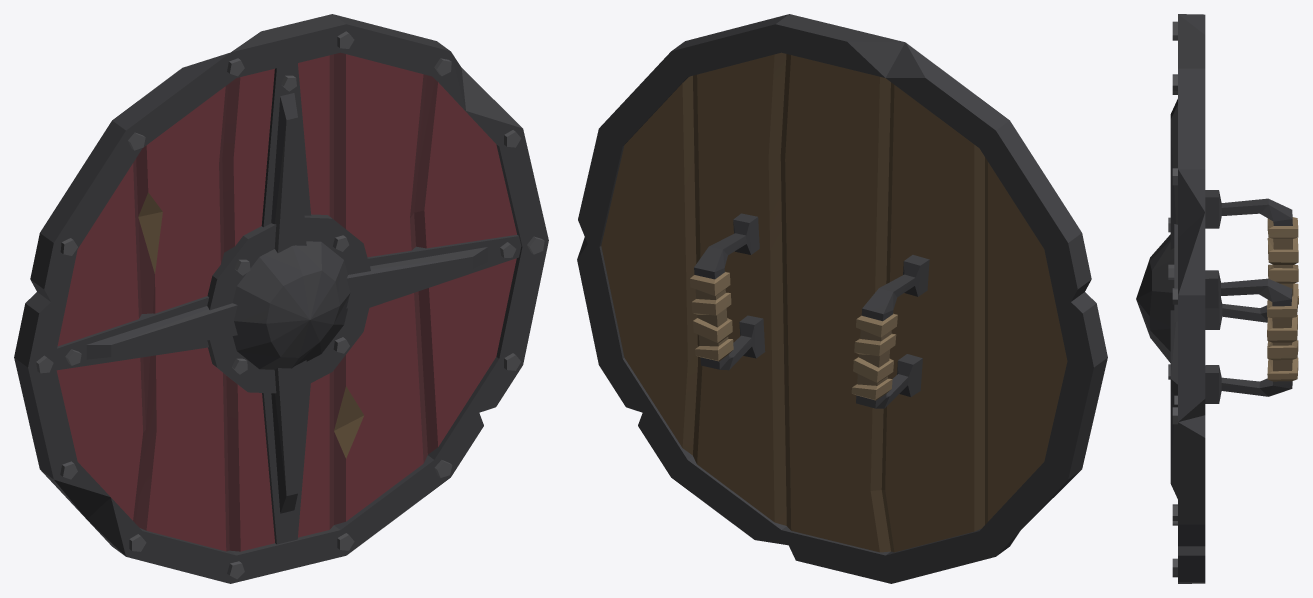
File: Escudo_05.glb
3 renders of one model, left to right at view 1: azimuth 30°, elevation 25°; view 2: azimuth 150°, elevation 25°; view 3: azimuth 270°, elevation 25°, orthographic. The views are drawn at different scales.
Parts seen in each view (by area): view 1: SM_Wep_Shield_02; view 2: SM_Wep_Shield_02; view 3: SM_Wep_Shield_02.
Boxes of the visible parts, x1,y1,x2,y2 form: SM_Wep_Shield_02: (14, 14, 548, 583); SM_Wep_Shield_02: (577, 14, 1107, 583); SM_Wep_Shield_02: (1136, 14, 1298, 583).
Bounding box in the file's own units: 0.7578 × 0.7388 × 0.2118.
Materials: 1 (1 with a texture image).
